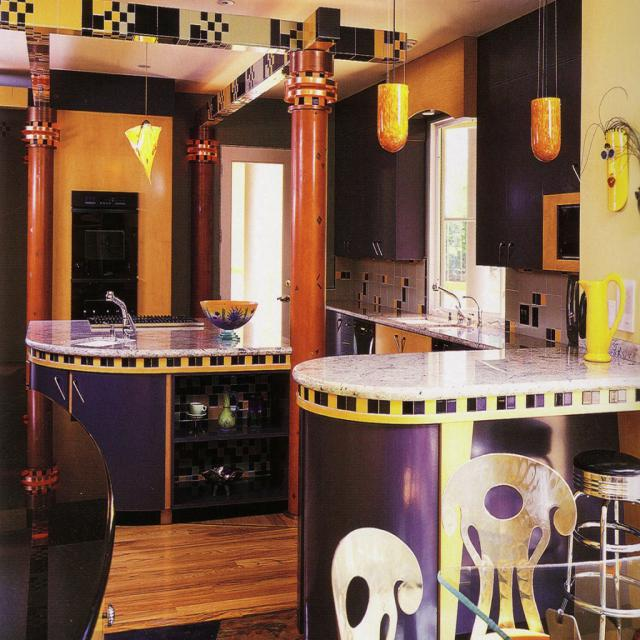2001: (438, 123, 502, 314)
2018: (246, 390, 264, 431)
bar: (560, 448, 639, 639)
cabinets: (333, 78, 426, 261), (325, 308, 474, 356)
ceiling beam: (1, 0, 553, 99)
ceiling fan: (1, 1, 406, 126)
chair -occluded-: (439, 452, 578, 636), (331, 525, 424, 638)
counter: (292, 298, 639, 399)
counter bottom: (1, 388, 116, 638)
counter crop: (295, 381, 639, 639)
cup board: (186, 402, 207, 415)
decorative bowl: (200, 298, 259, 341)
decorative mask: (580, 84, 639, 211)
decortive bowl: (201, 465, 246, 498)
door bars: (219, 145, 289, 337)
entryway: (1, 106, 28, 388)
faucet handle: (430, 279, 471, 322), (105, 289, 138, 341)
floor -X: (106, 512, 302, 639)
intercom: (616, 278, 636, 334)
island counter: (26, 317, 291, 524)
kitchen counter: (474, 0, 578, 268)
light fixture: (123, 42, 161, 185), (530, 2, 562, 162), (376, 2, 408, 152), (422, 109, 436, 115)
light switch: (608, 298, 616, 328)
microwave oven: (555, 206, 576, 253)
object: (566, 275, 579, 348)
oven cloth: (70, 189, 138, 318)
pillar: (284, 49, 338, 521), (22, 105, 61, 332), (185, 127, 218, 318)
pitcher: (577, 272, 627, 362), (218, 387, 238, 432)
shelf crop: (172, 368, 289, 511)
sink basin: (73, 336, 131, 347)
stove top: (87, 312, 203, 328)
table -X: (438, 554, 635, 635)
wall clock: (1, 69, 291, 320), (326, 103, 427, 312), (582, 0, 638, 346), (386, 35, 474, 121), (503, 268, 567, 344)
